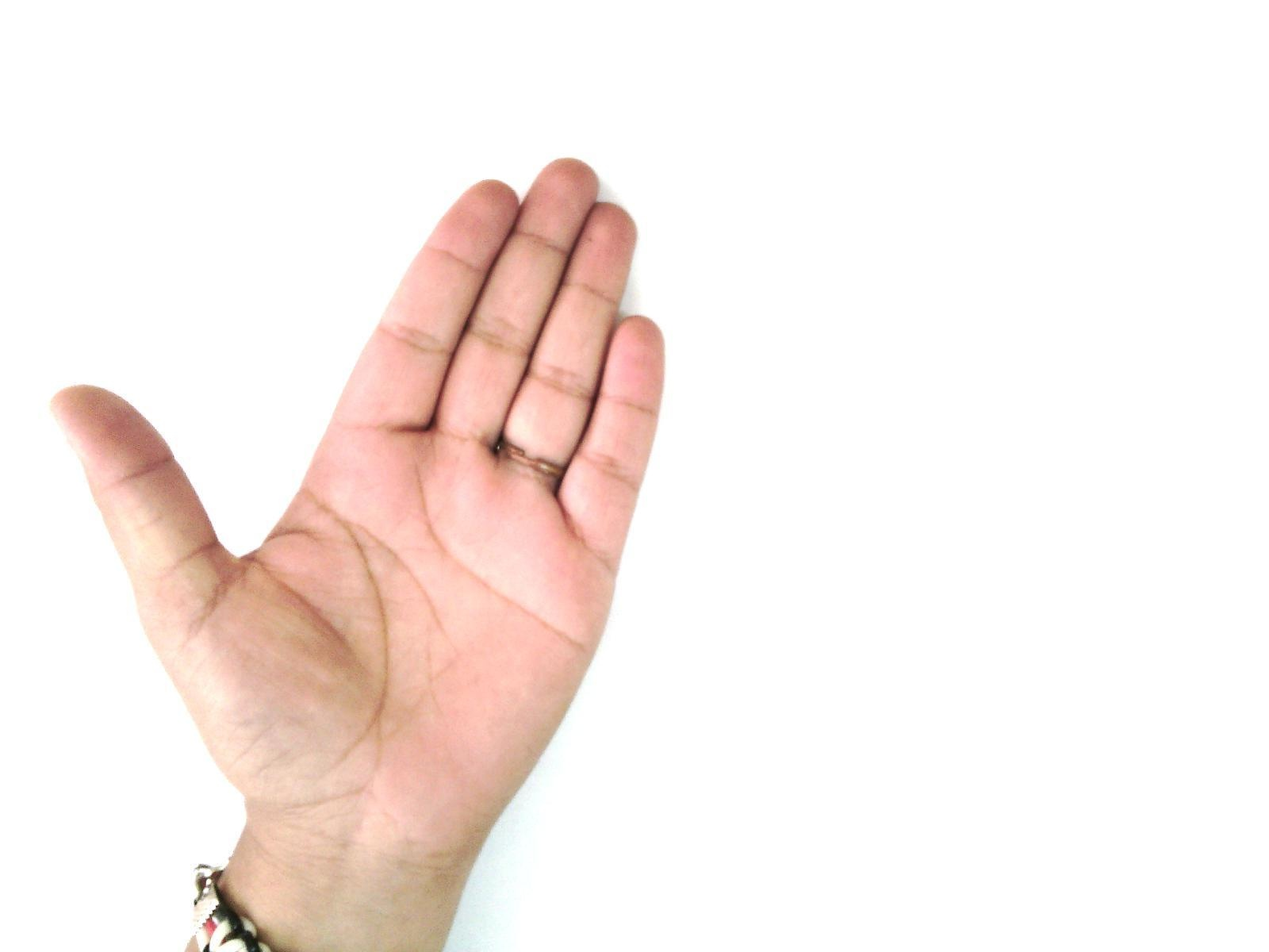open_palm: (49, 155, 669, 950)
